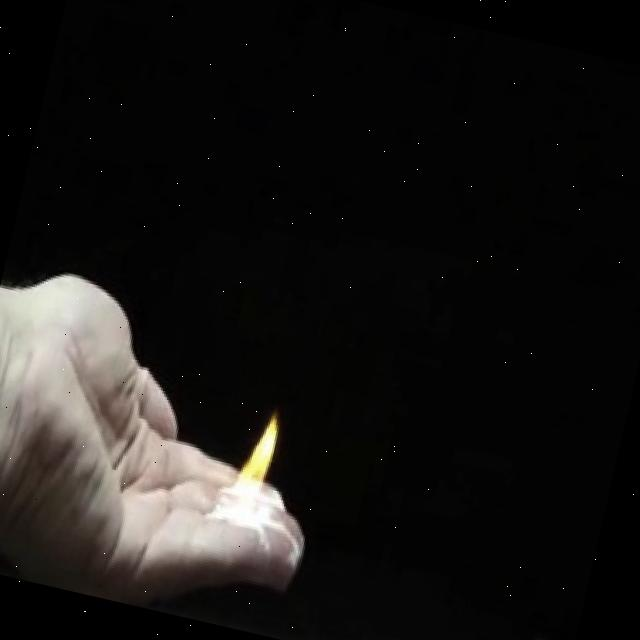fire: (223, 386, 286, 508)
